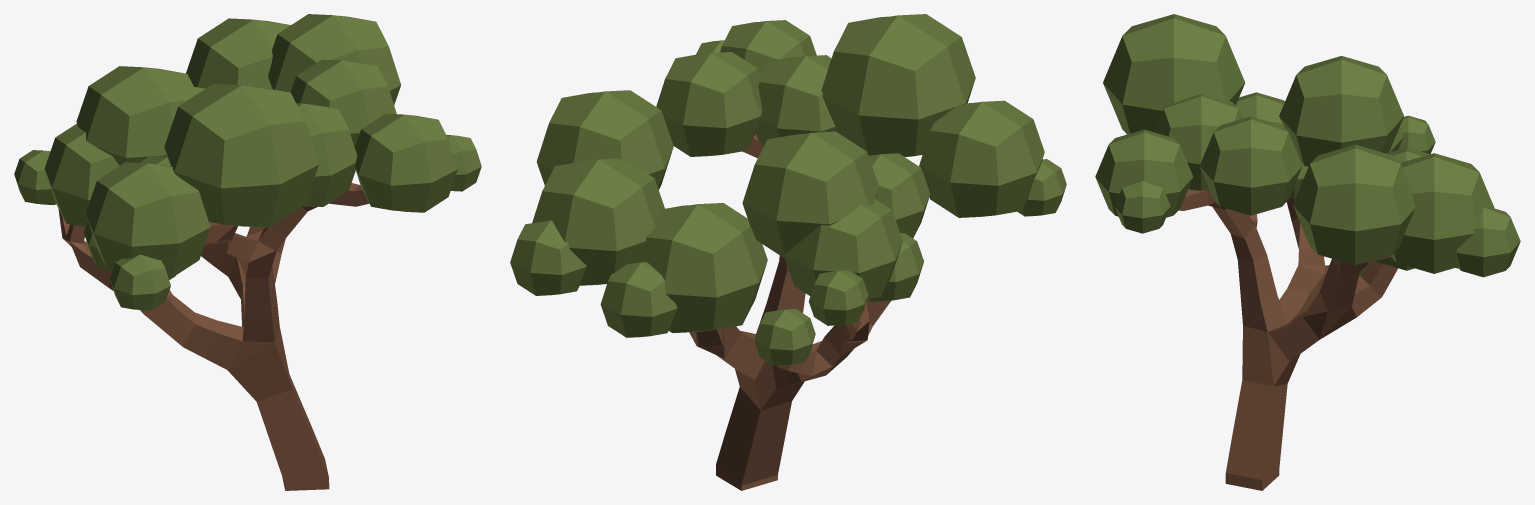
Rendered from Trees1-2.fbx.
3 renders of one model, left to right at view 1: azimuth 30°, elevation 25°; view 2: azimuth 150°, elevation 25°; view 3: azimuth 270°, elevation 25°, orthographic. The views are drawn at different scales.
Parts seen in each view (by area): view 1: Leaves, Tree; view 2: Leaves, Tree; view 3: Leaves, Tree.
Part boxes in pixels (x1=…): Leaves: x1=14, y1=14, x2=481, y2=310; Tree: x1=58, y1=183, x2=369, y2=490; Leaves: x1=510, y1=14, x2=1066, y2=365; Tree: x1=689, y1=134, x2=890, y2=490; Leaves: x1=1095, y1=14, x2=1520, y2=277; Tree: x1=1179, y1=189, x2=1397, y2=490.
Bounding box in the file's own units: 517 × 565 × 527.
